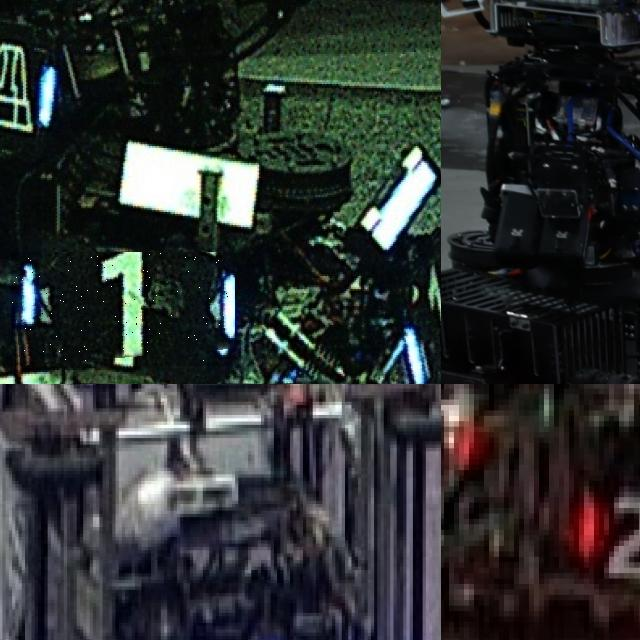B1: (11, 252, 235, 366)
R2: (574, 486, 640, 578)
